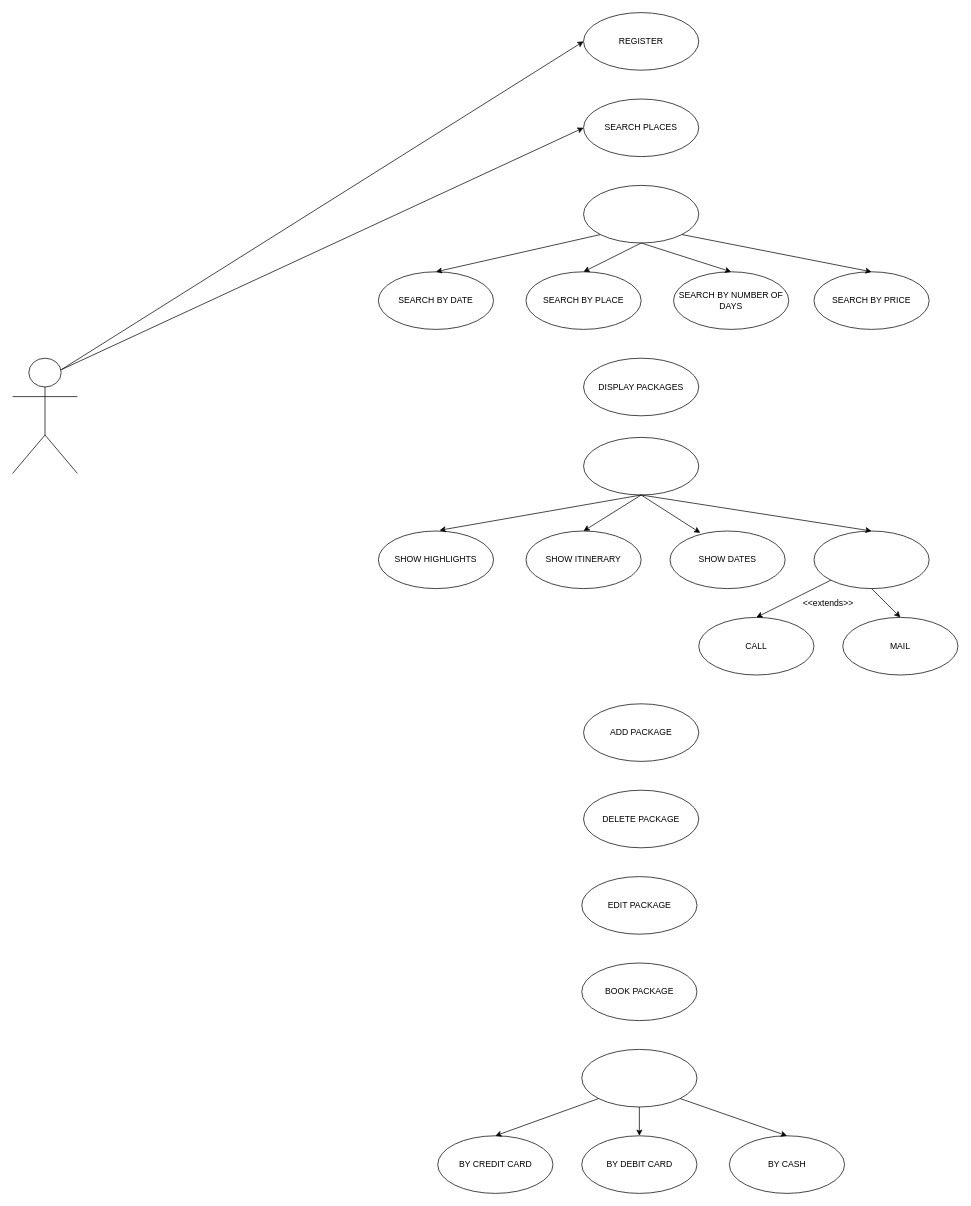
Some shapes in this 971 by 1206 pixel diagram are drawn without their labels. Each missing label, with the centre of its shape:
Actor: point 44,415
ENQUIRE: point 871,559
MAKE PAYMENT: point 639,1078
MANAGE SEARCH: point 641,214
SELECT PACKAGE: point 641,466
